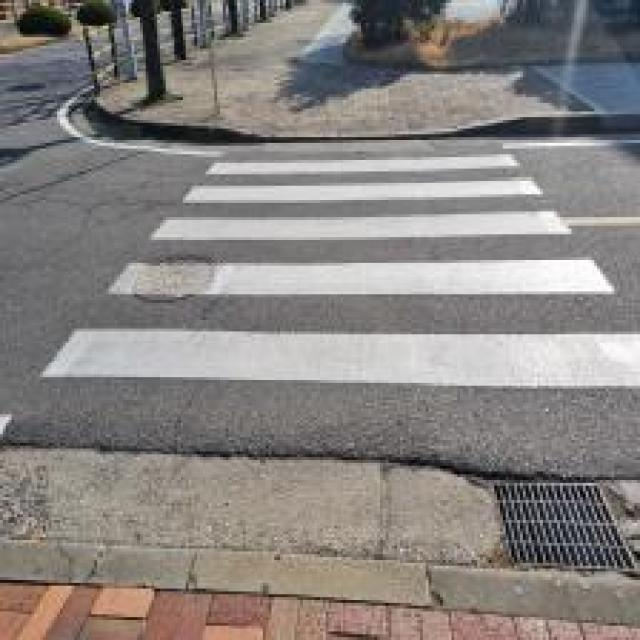crosswalk: (30, 145, 638, 417)
